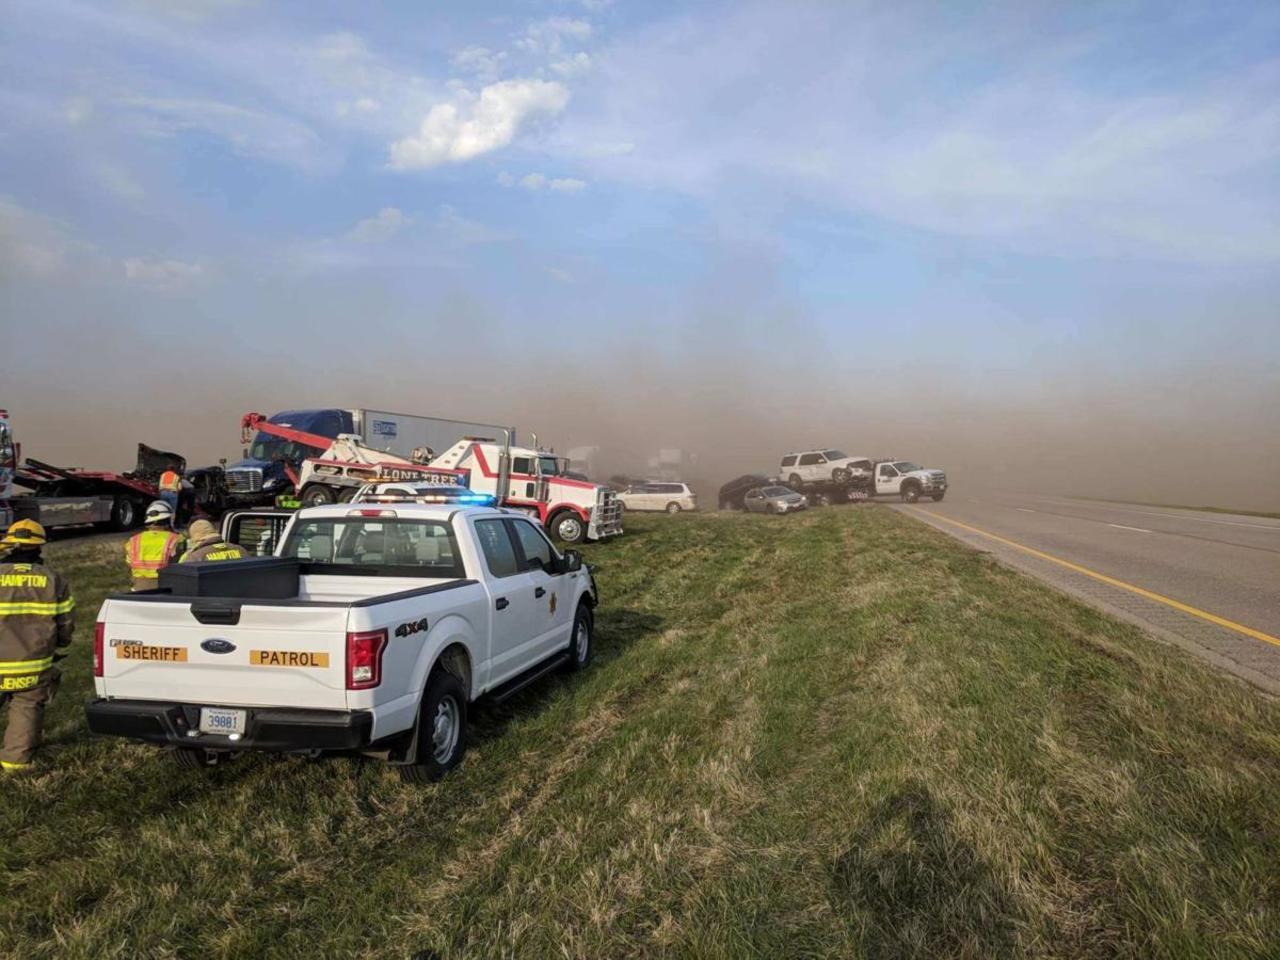car: (609, 478, 695, 515), (782, 452, 866, 479), (745, 482, 806, 513), (716, 472, 768, 505)
person: (1, 509, 74, 776), (122, 502, 185, 588), (184, 508, 250, 559), (155, 456, 185, 518)
truck: (84, 493, 609, 774), (290, 425, 619, 545), (216, 402, 524, 507), (1, 397, 212, 527), (801, 450, 948, 498), (567, 444, 642, 479), (658, 445, 687, 479)
